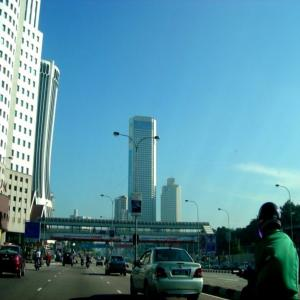Vehicle-registration-plate: (173, 271, 189, 277)
